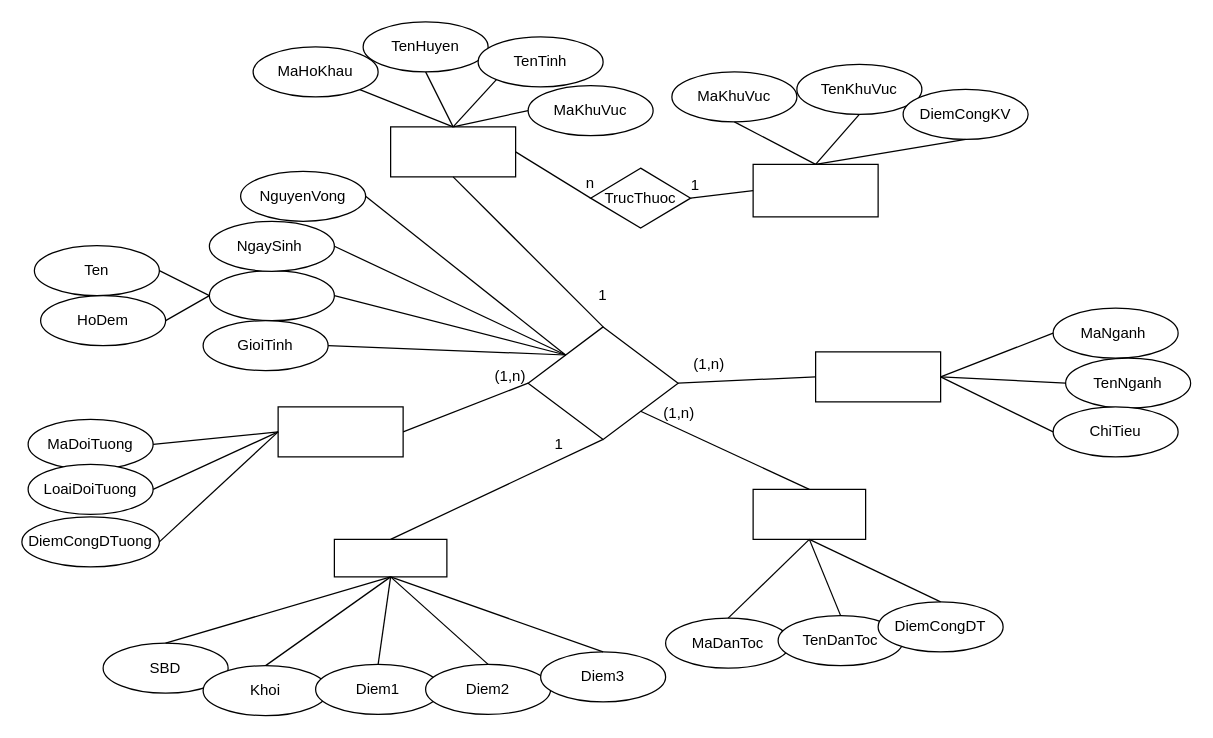
This 1213x738 diagram has some shape labels left out. Each missing label, with the centre of its shape:
"DanToc" goes at pixel 809 513.
"Diem" goes at pixel 390 557.
"DoiTuong" goes at pixel 340 431.
"HoKhau" goes at pixel 452 151.
"HoSoThiSinh" goes at pixel 602 382.
"KhuVuc" goes at pixel 815 190.
"Nganh" goes at pixel 877 376.
"TenThiSinh" goes at pixel 271 295.
